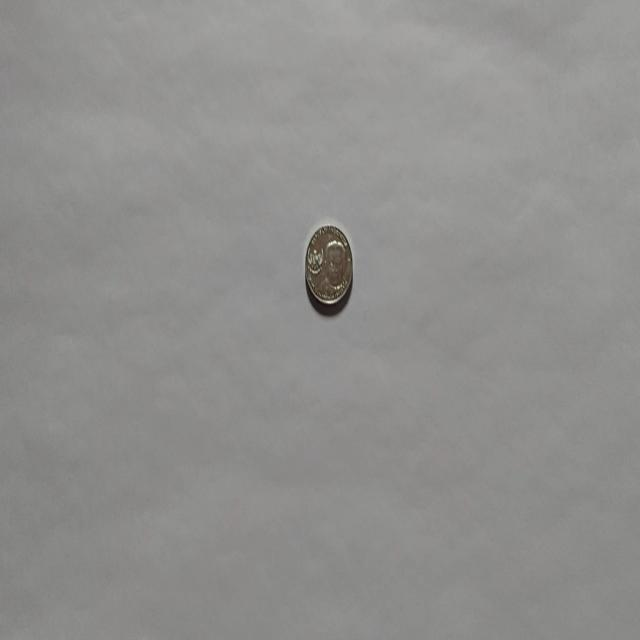seratus rupiah: (304, 222, 353, 308)
